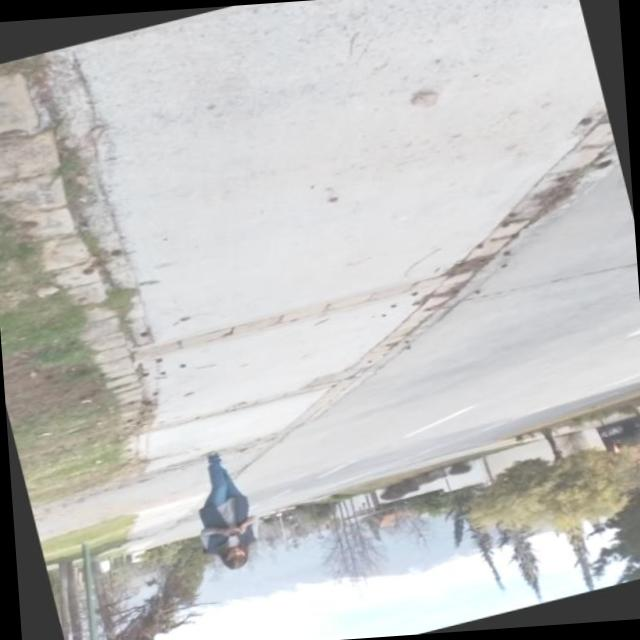person: (152, 436, 297, 590)
